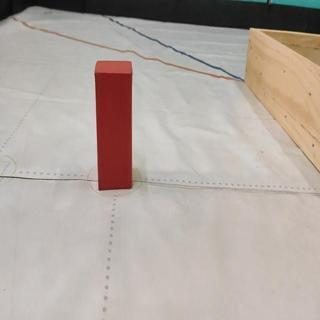redbox: (95, 59, 134, 190)
